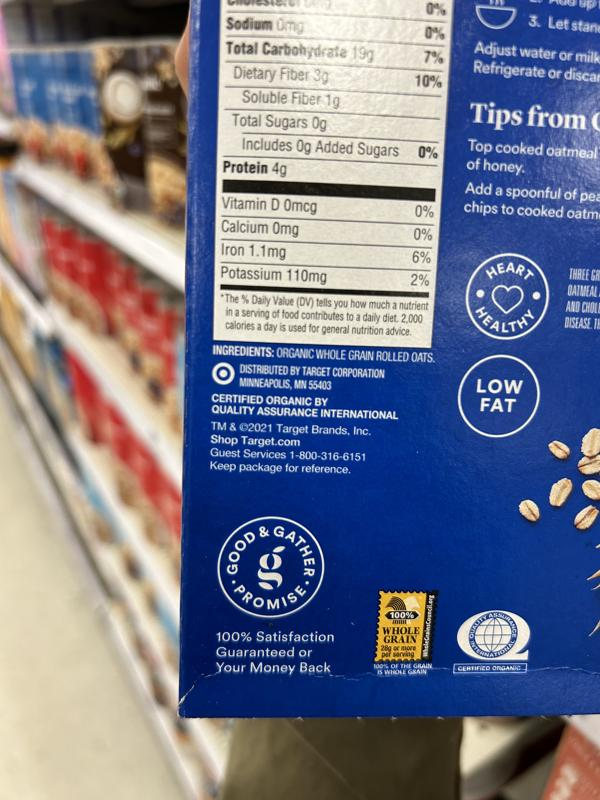ingredients: (209, 342, 437, 365)
